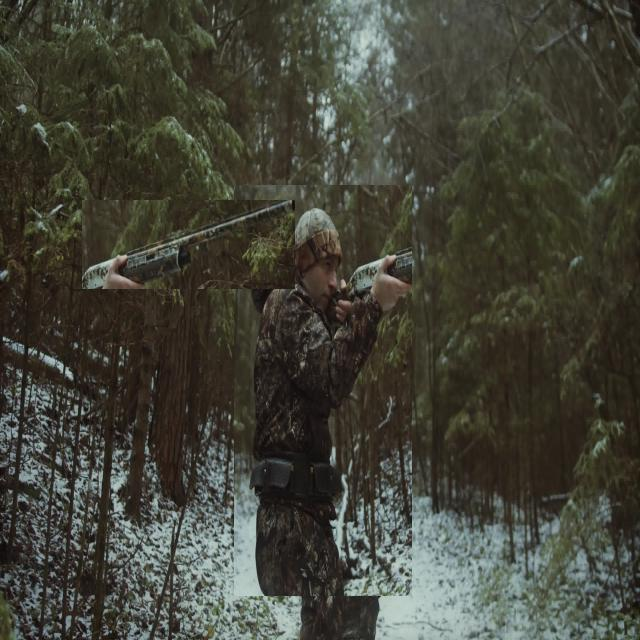poacher: (234, 185, 412, 596)
weapon: (82, 200, 295, 289)
